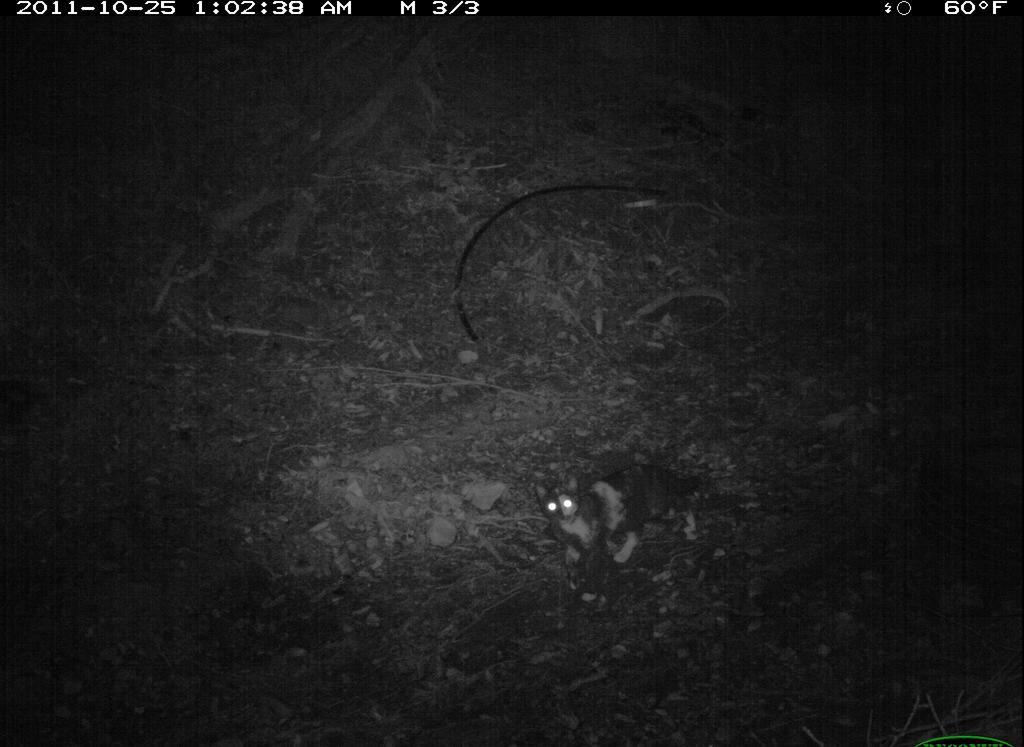cat: (536, 447, 719, 610)
